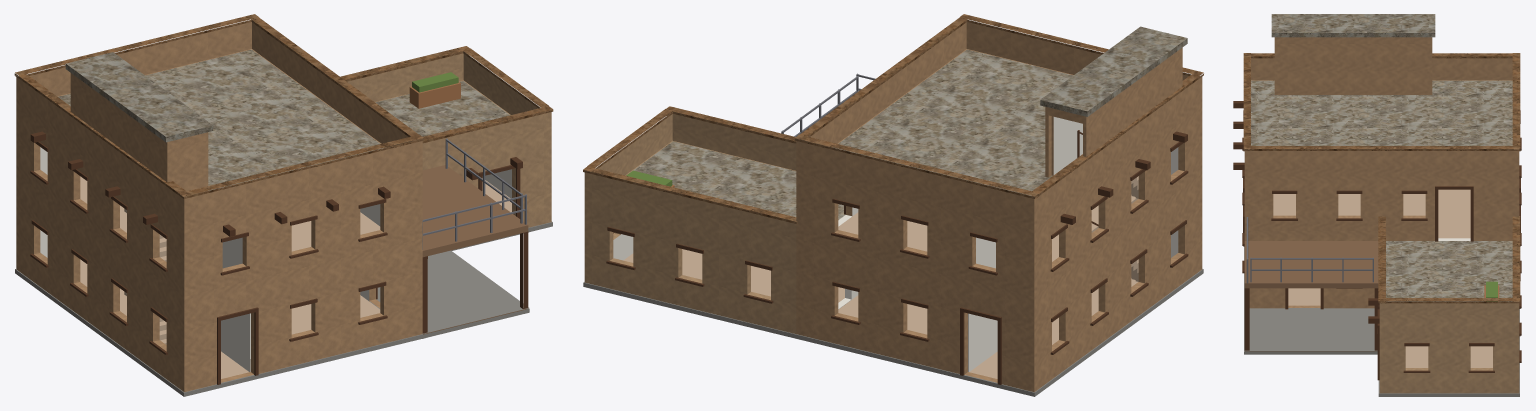
Rendered from cr-adobe-courtyard.towns-v2.lod0.glb.
3 renders of one model, left to right at view 1: azimuth 30°, elevation 25°; view 2: azimuth 150°, elevation 25°; view 3: azimuth 270°, elevation 25°, orthographic. The views are drawn at different scales.
Visible parts, largest first — view 1: cr-adobe-courtyard; view 2: cr-adobe-courtyard; view 3: cr-adobe-courtyard.
Part boxes in pixels (left/top/right/bottom): cr-adobe-courtyard: left=14, top=14, right=553, bottom=396; cr-adobe-courtyard: left=583, top=14, right=1203, bottom=396; cr-adobe-courtyard: left=1233, top=14, right=1521, bottom=396.
Size of the model in its own units: 17.54 by 8.98 by 11.54.
5 materials, 2 textured.
